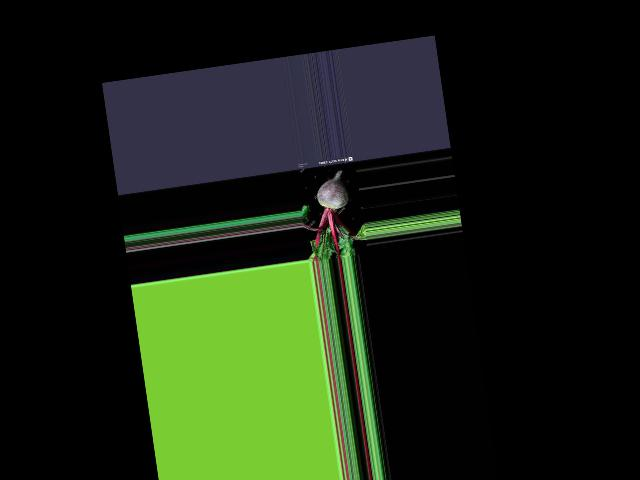beet: (295, 168, 368, 262)
